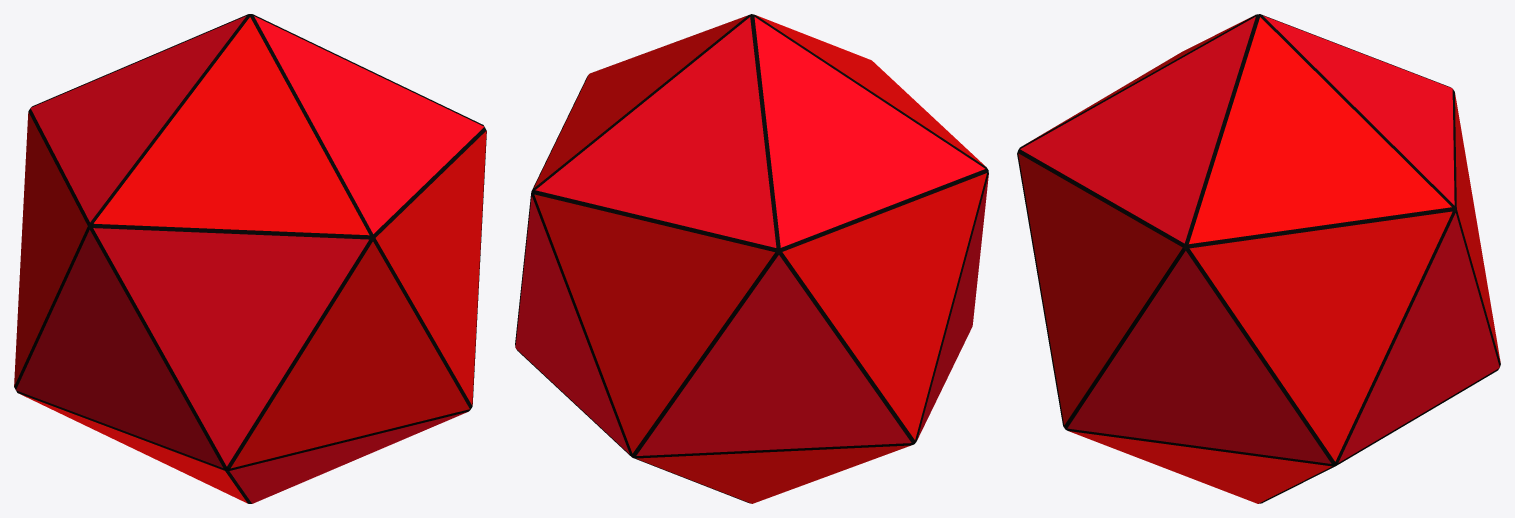
3 views of the same model, side by side, from view 1: azimuth 30°, elevation 25°; view 2: azimuth 150°, elevation 25°; view 3: azimuth 270°, elevation 25° (orthographic).
Visible parts, largest first — view 1: Icosphere1; view 2: Icosphere1; view 3: Icosphere1.
Part boxes in pixels (x1,y1,x2,y2): Icosphere1: (14,14,486,503); Icosphere1: (515,14,988,503); Icosphere1: (1017,14,1500,503).
Size of the model in its own units: 170 by 198 by 178.
